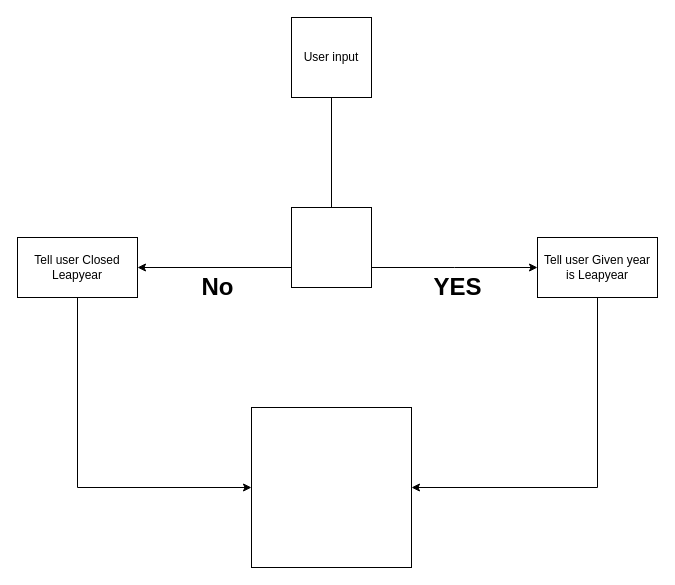
Image size: 675x585. Some labels were removed from this diagram. Each missing label, with the centre of its shape:
Check if is Leapyear: [331,247]
Close Program: [331,487]
